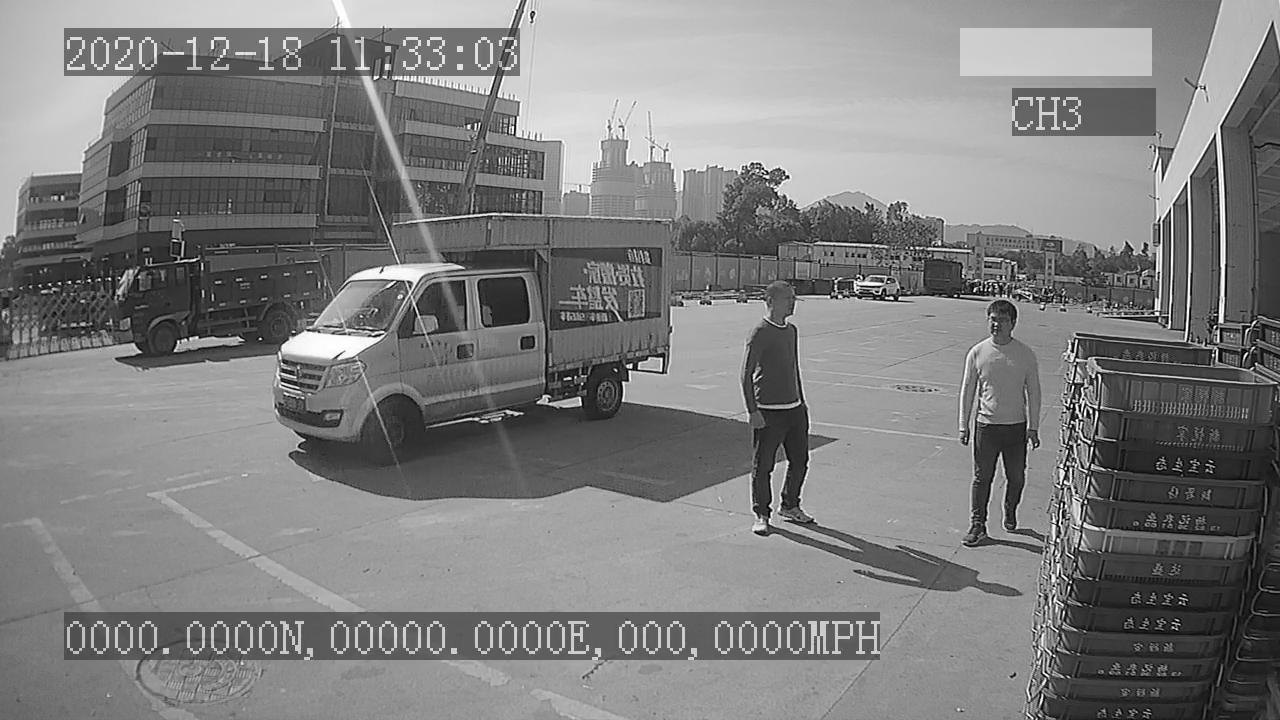person: (953, 296, 1043, 543), (741, 278, 826, 537)
